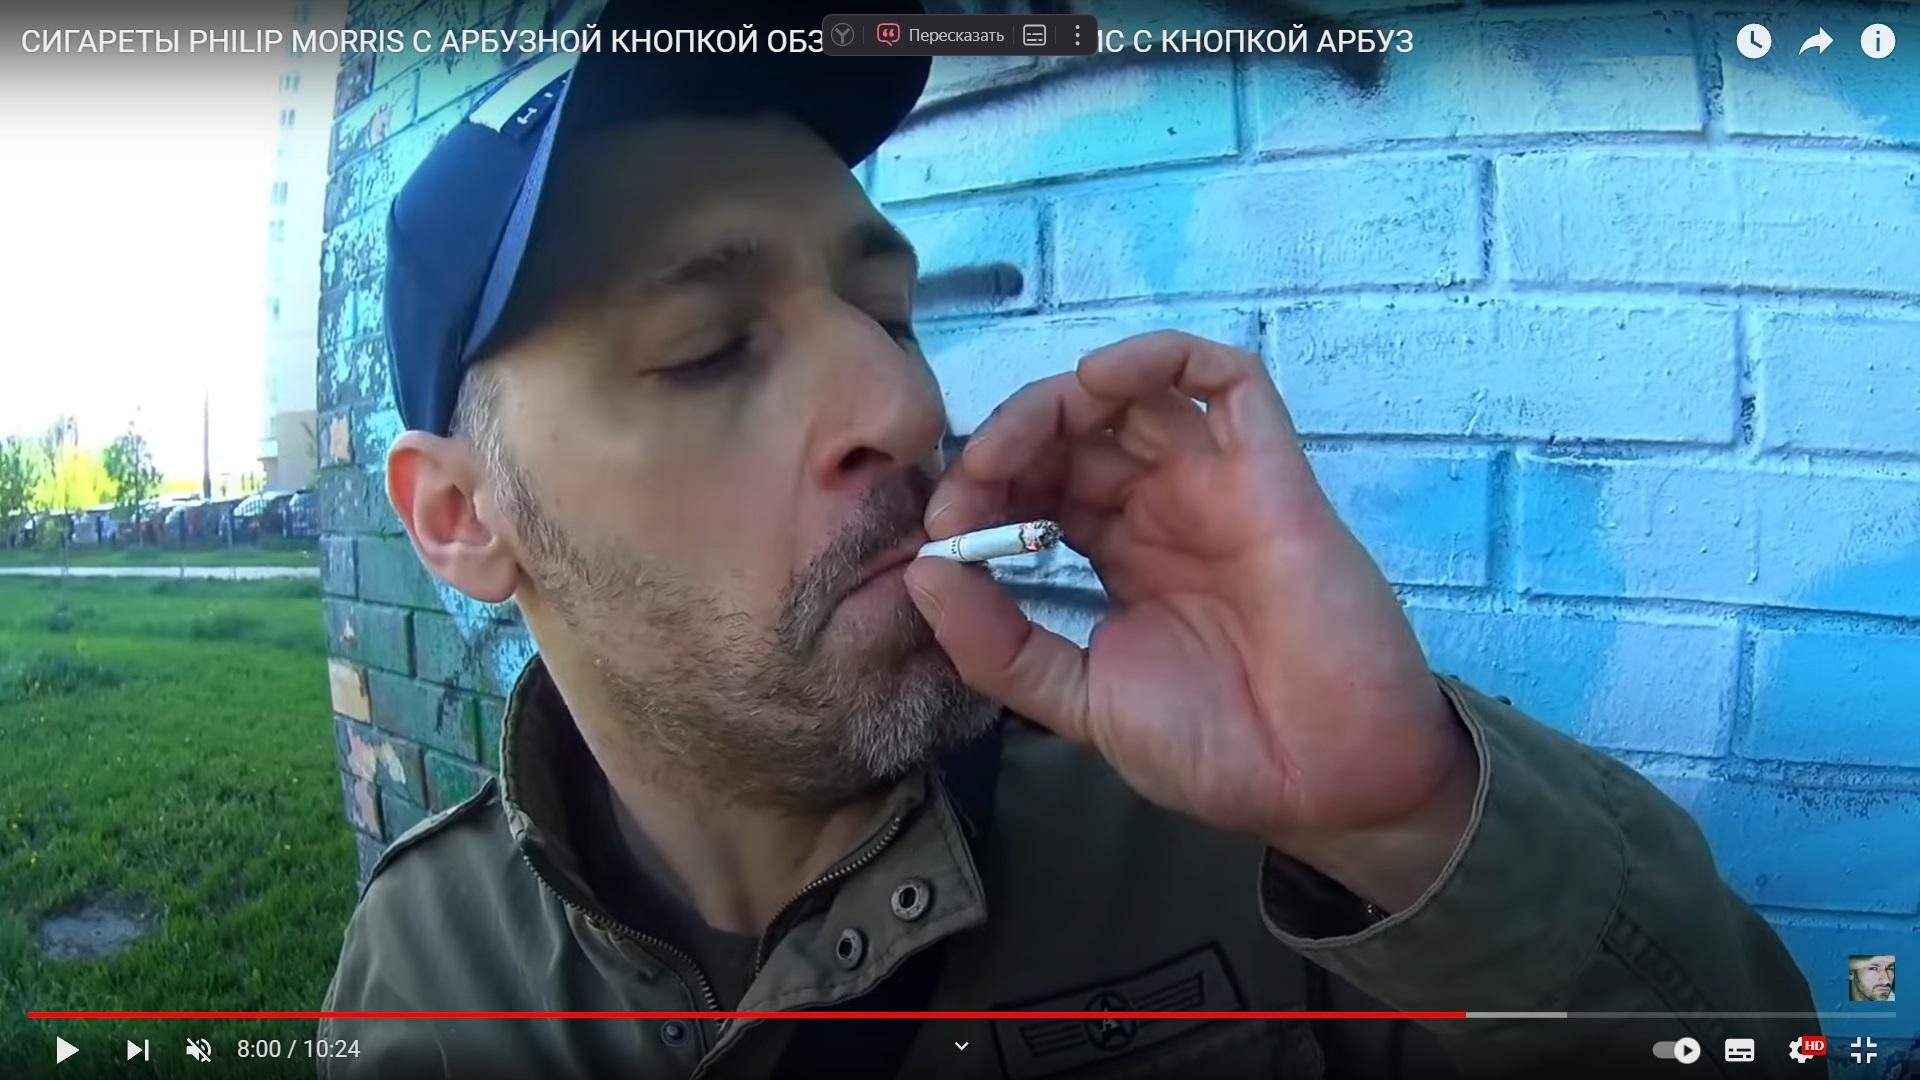cigarette: (916, 518, 1065, 563)
